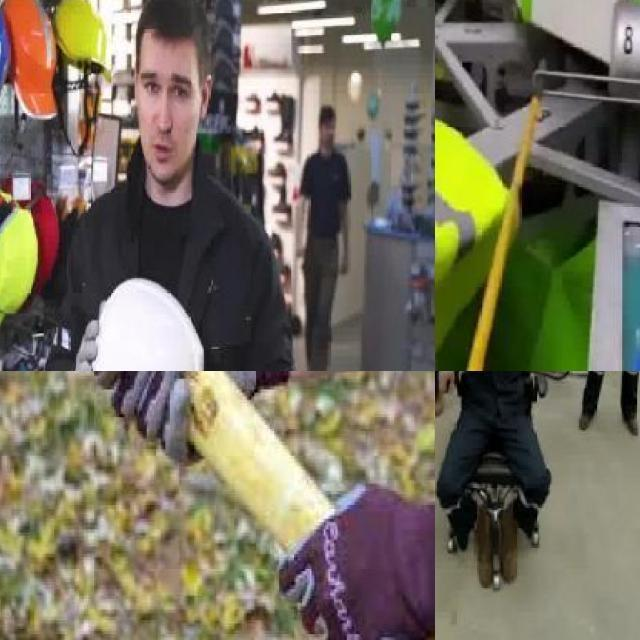apron: (276, 487, 435, 640), (92, 371, 291, 464), (73, 296, 101, 371)
